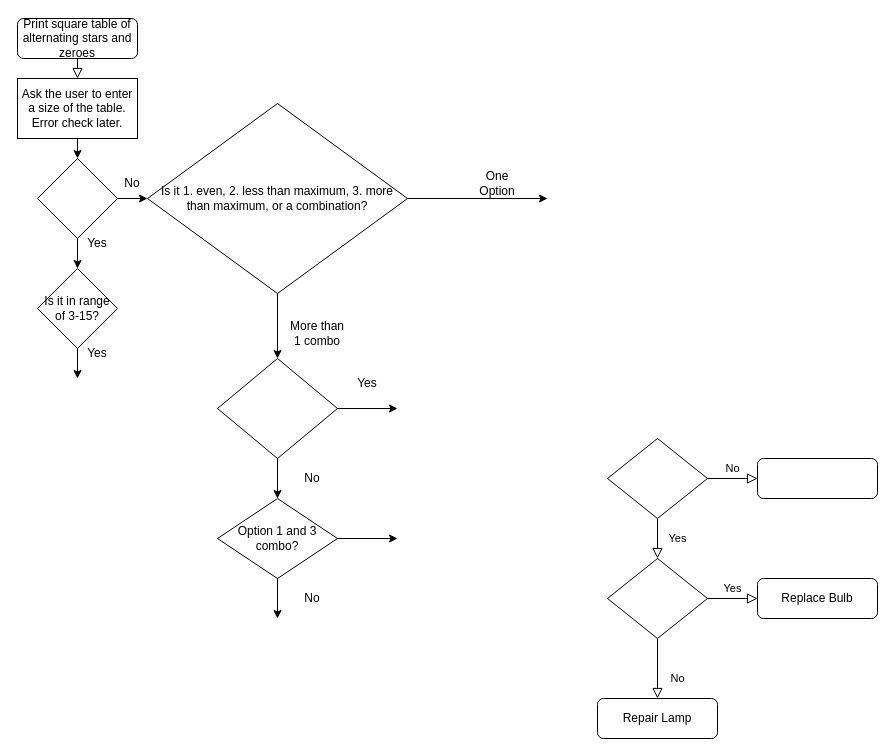
Image size: 895x756. Some labels were removed from this diagram. The centre of each missing label's shape, as x and y in pixels:
"Bulb burned out?" goes at point (657, 598).
"Is it odd?" goes at point (77, 198).
"Option 1 and 2 combo?" goes at point (277, 408).
"Plug in lamp" goes at point (817, 478).
